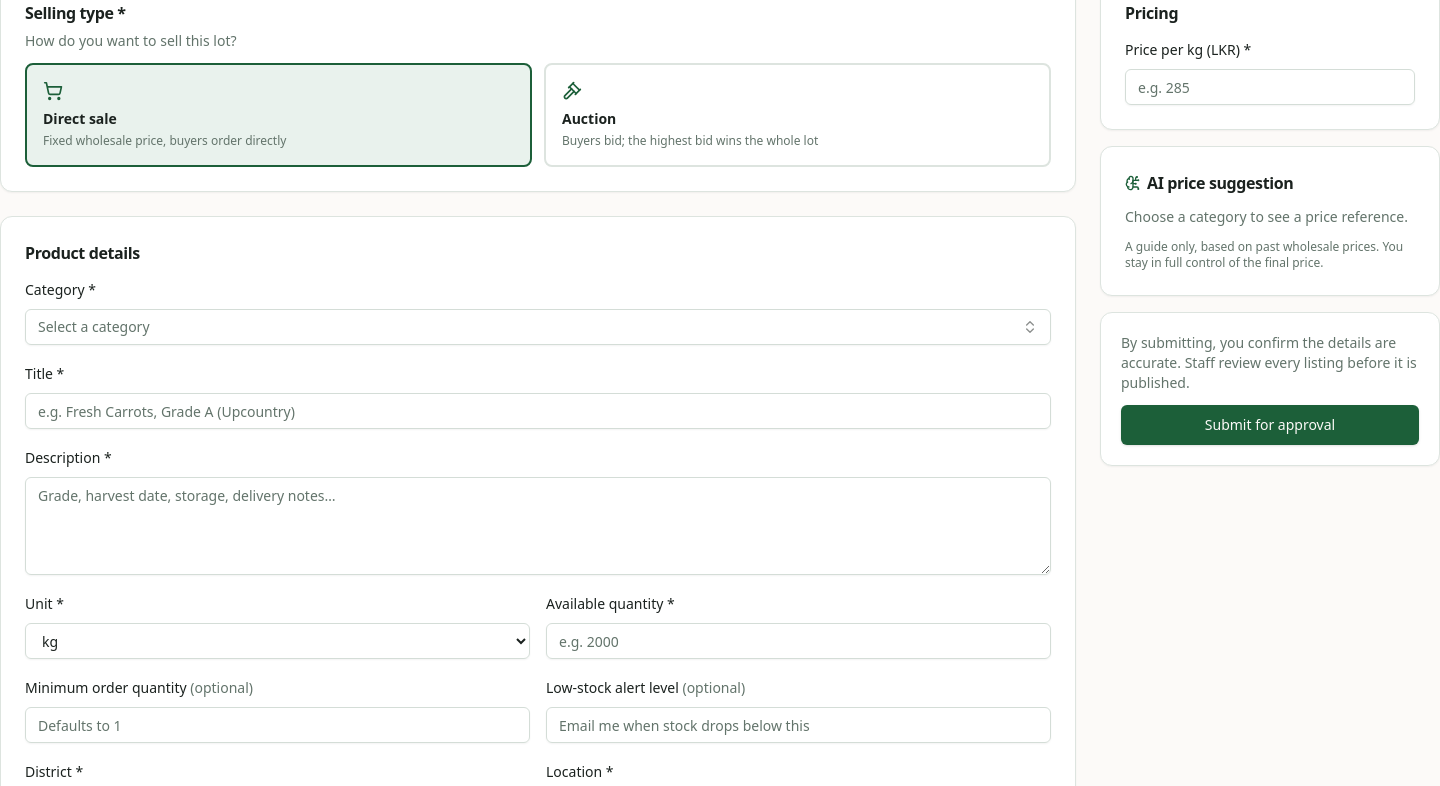
Scenario: ListingForm: creating › picks a category from a searchable list and a district from a searchable list
This screenshot has width=1440, height=786.
Click the dropdown labelled "Select a category": (94, 326) [25, 309, 1051, 345]
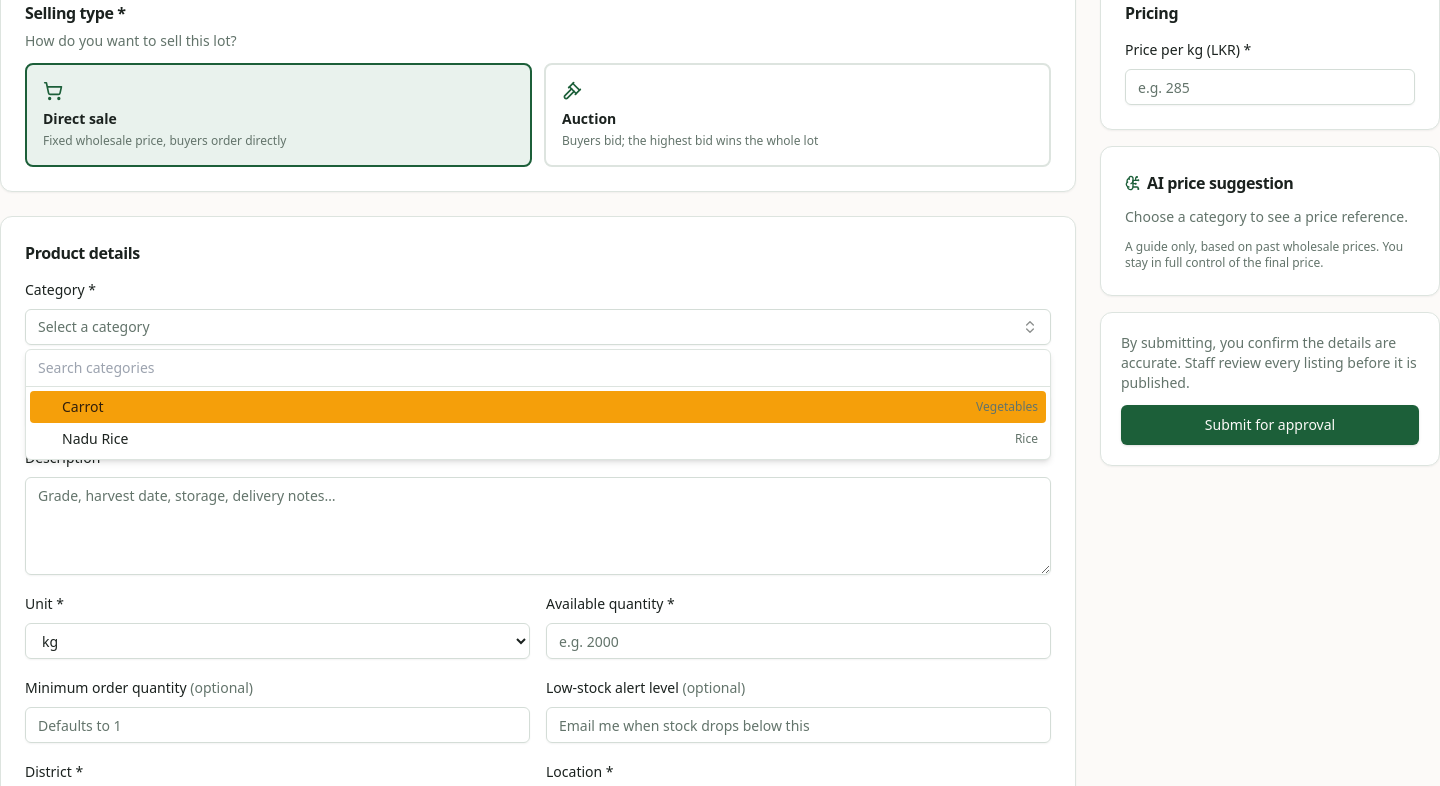
In the field with placeholder "Search categories": (538, 368) [26, 350, 1050, 387], type "rice"
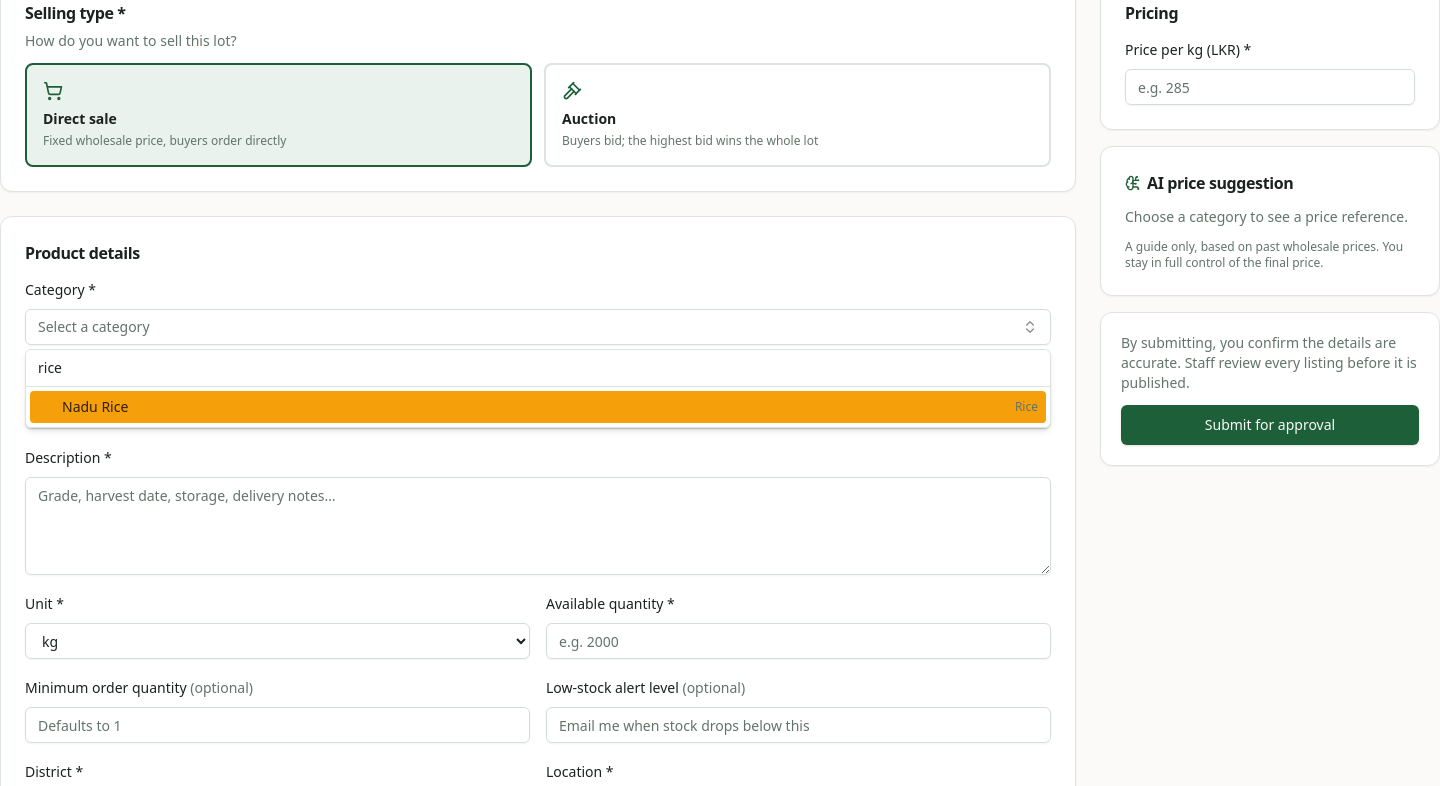
Click the option "Nadu Rice Rice": (95, 406) [30, 391, 1046, 423]
(page scrolled)
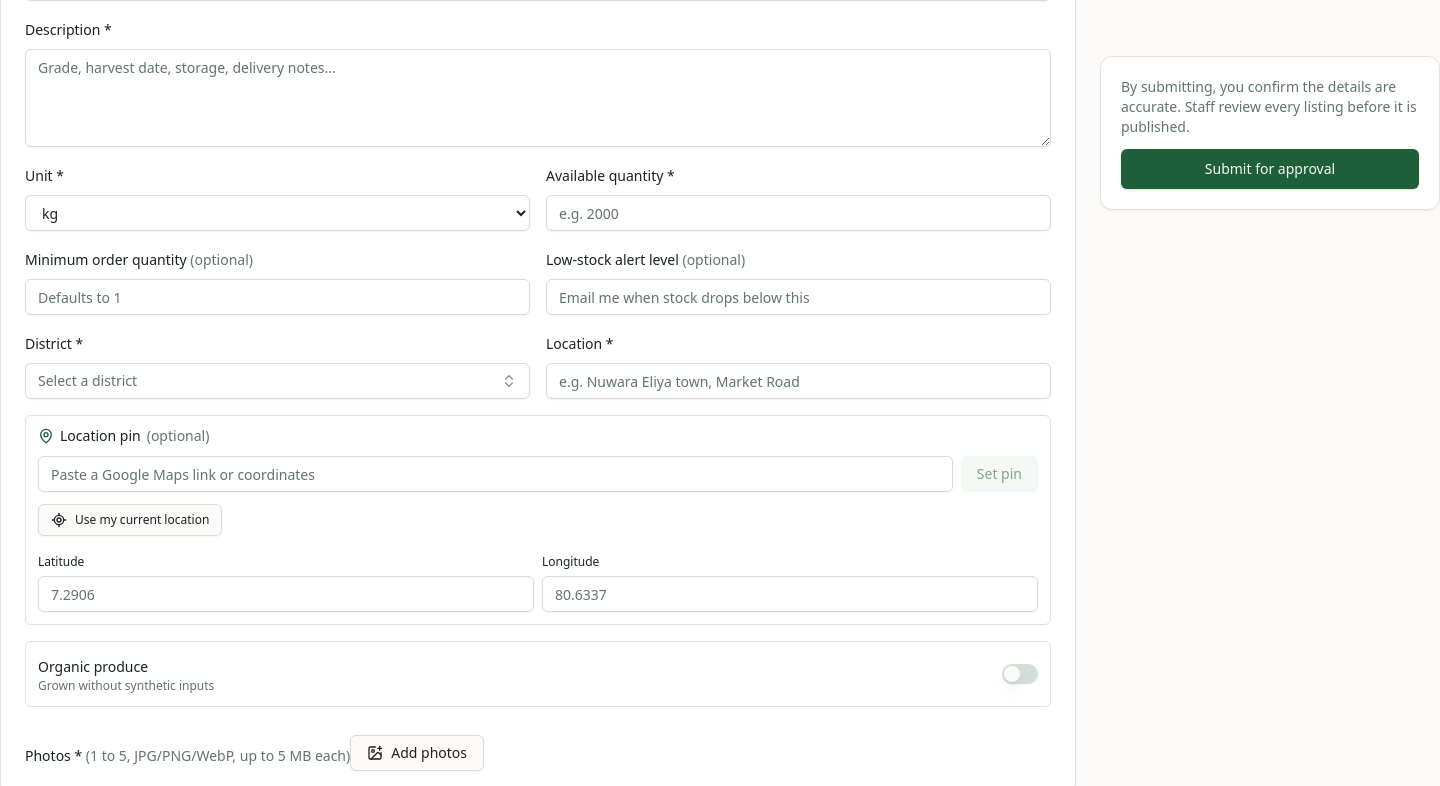
Click the dropdown labelled "Select a district": (88, 380) [25, 363, 530, 399]
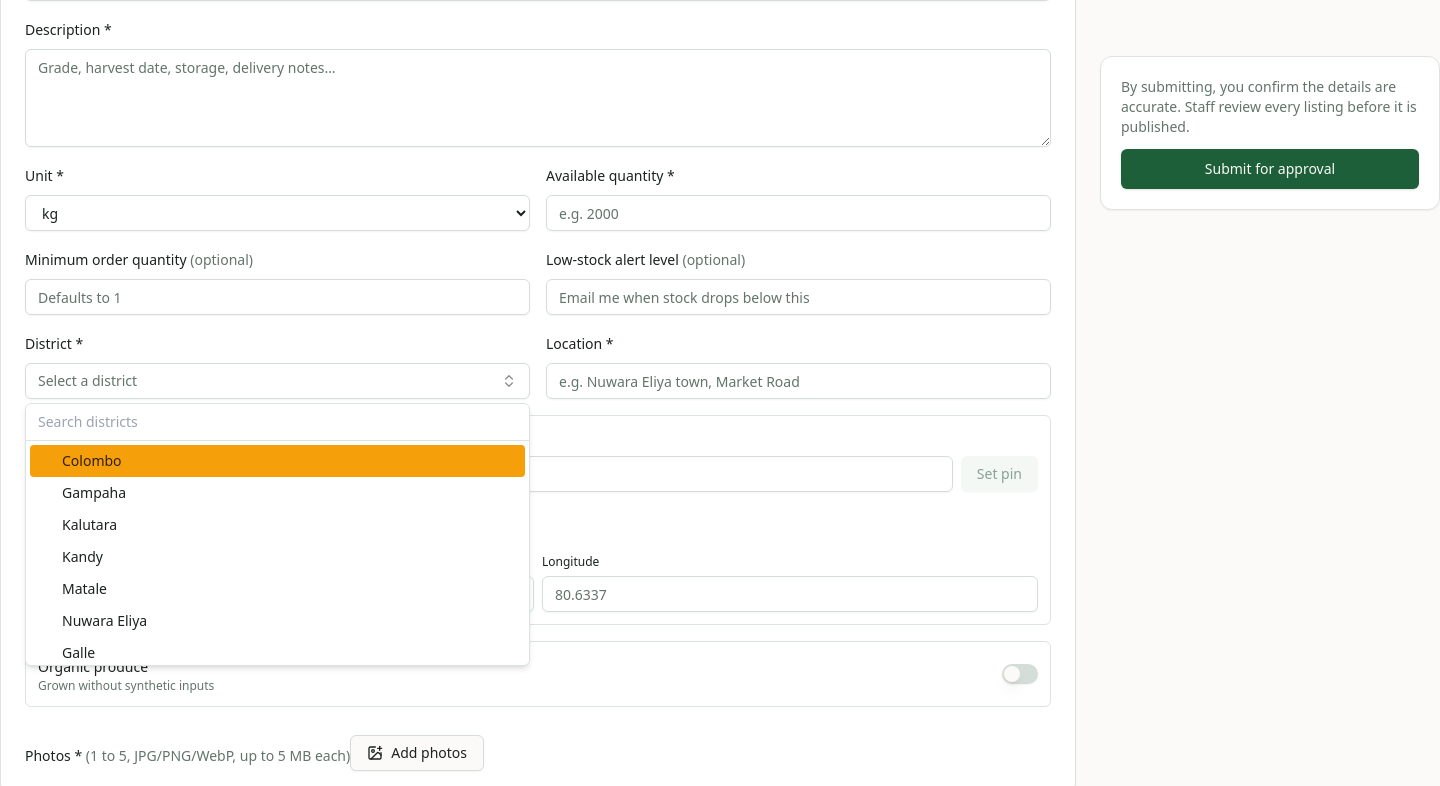
In the field with placeholder "Search districts": (278, 422) [26, 404, 529, 441], type "nuw"
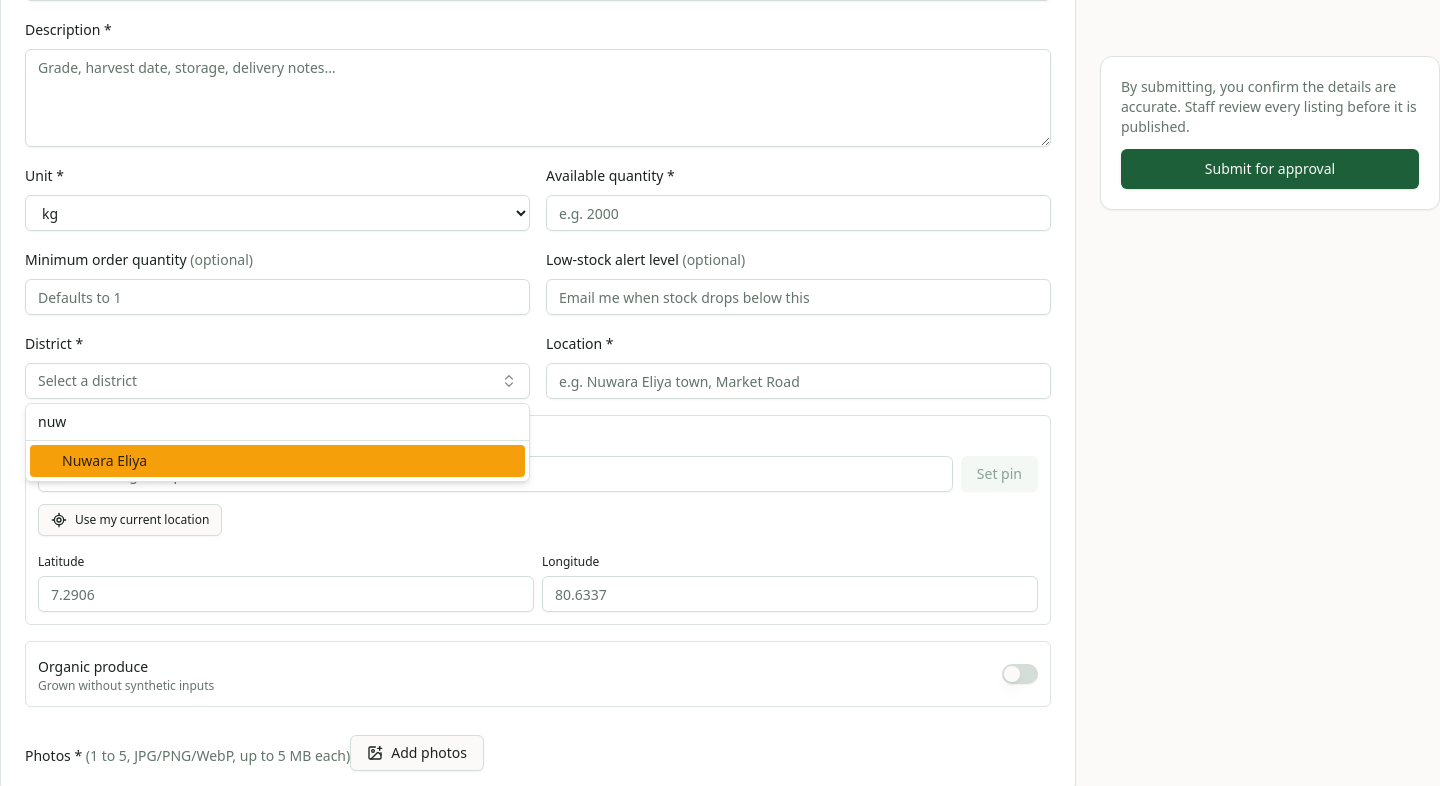
Click the option "Nuwara Eliya": (105, 460) [30, 445, 525, 477]
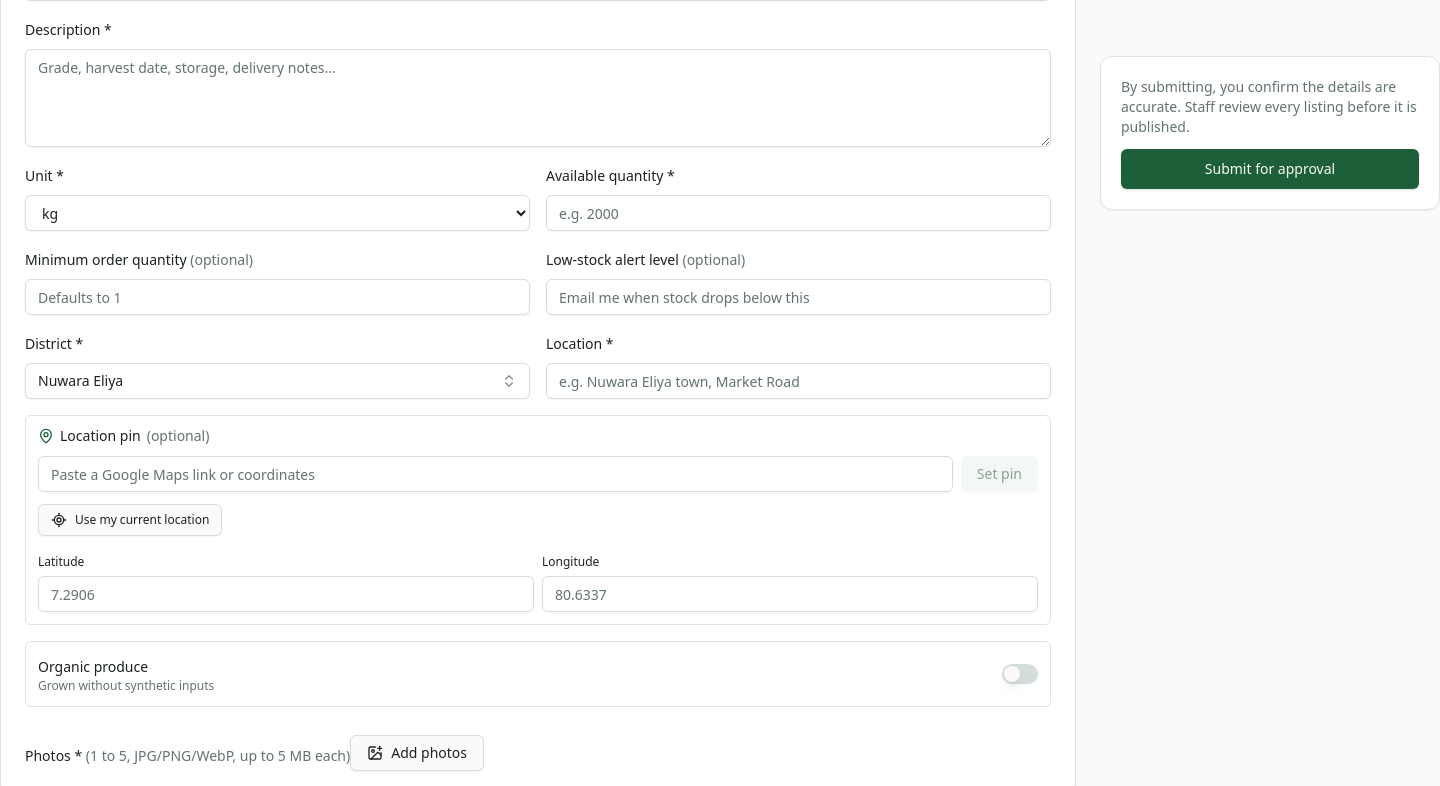
Now the dropdown named "District" reads "Nuwara Eliya", box [25, 363, 530, 399]
